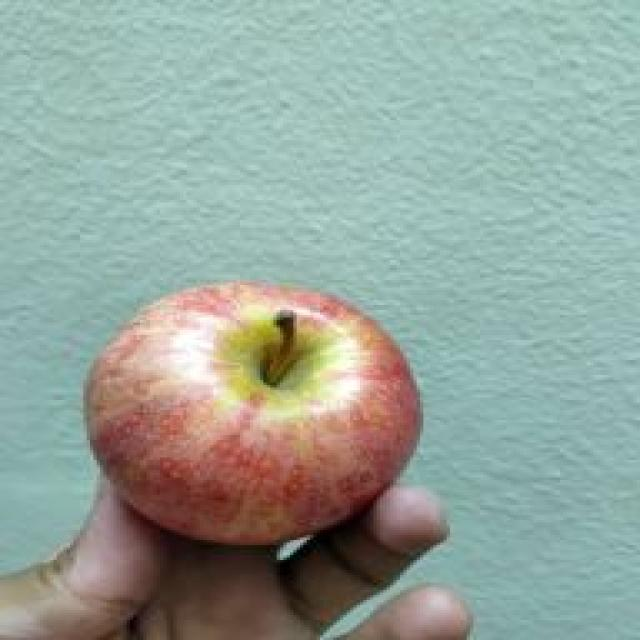Good_Apple: (83, 280, 423, 550)
